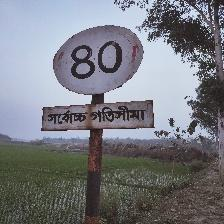Speed-limit: (39, 23, 162, 135)
